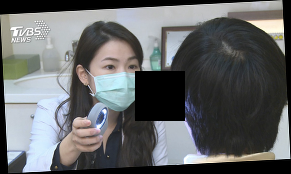with_mask: (92, 55, 145, 114)
